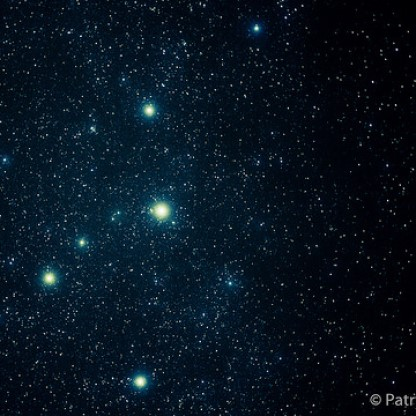Cassiopeia: (36, 232, 86, 292), (139, 184, 182, 230), (133, 94, 172, 131), (237, 15, 274, 47), (123, 365, 154, 394)
